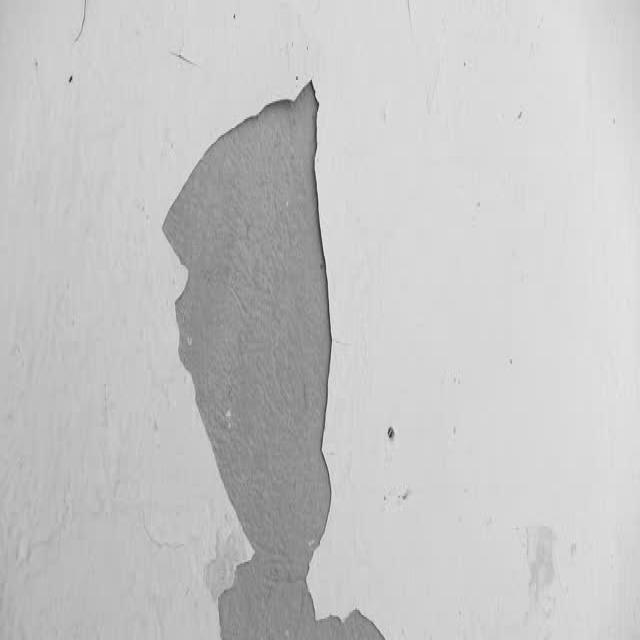peeling paint: (69, 0, 414, 640)
